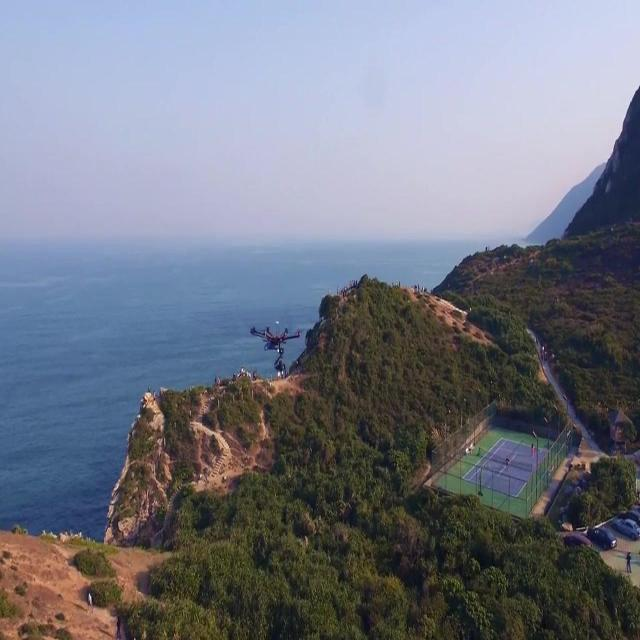drone: (250, 319, 306, 379)
